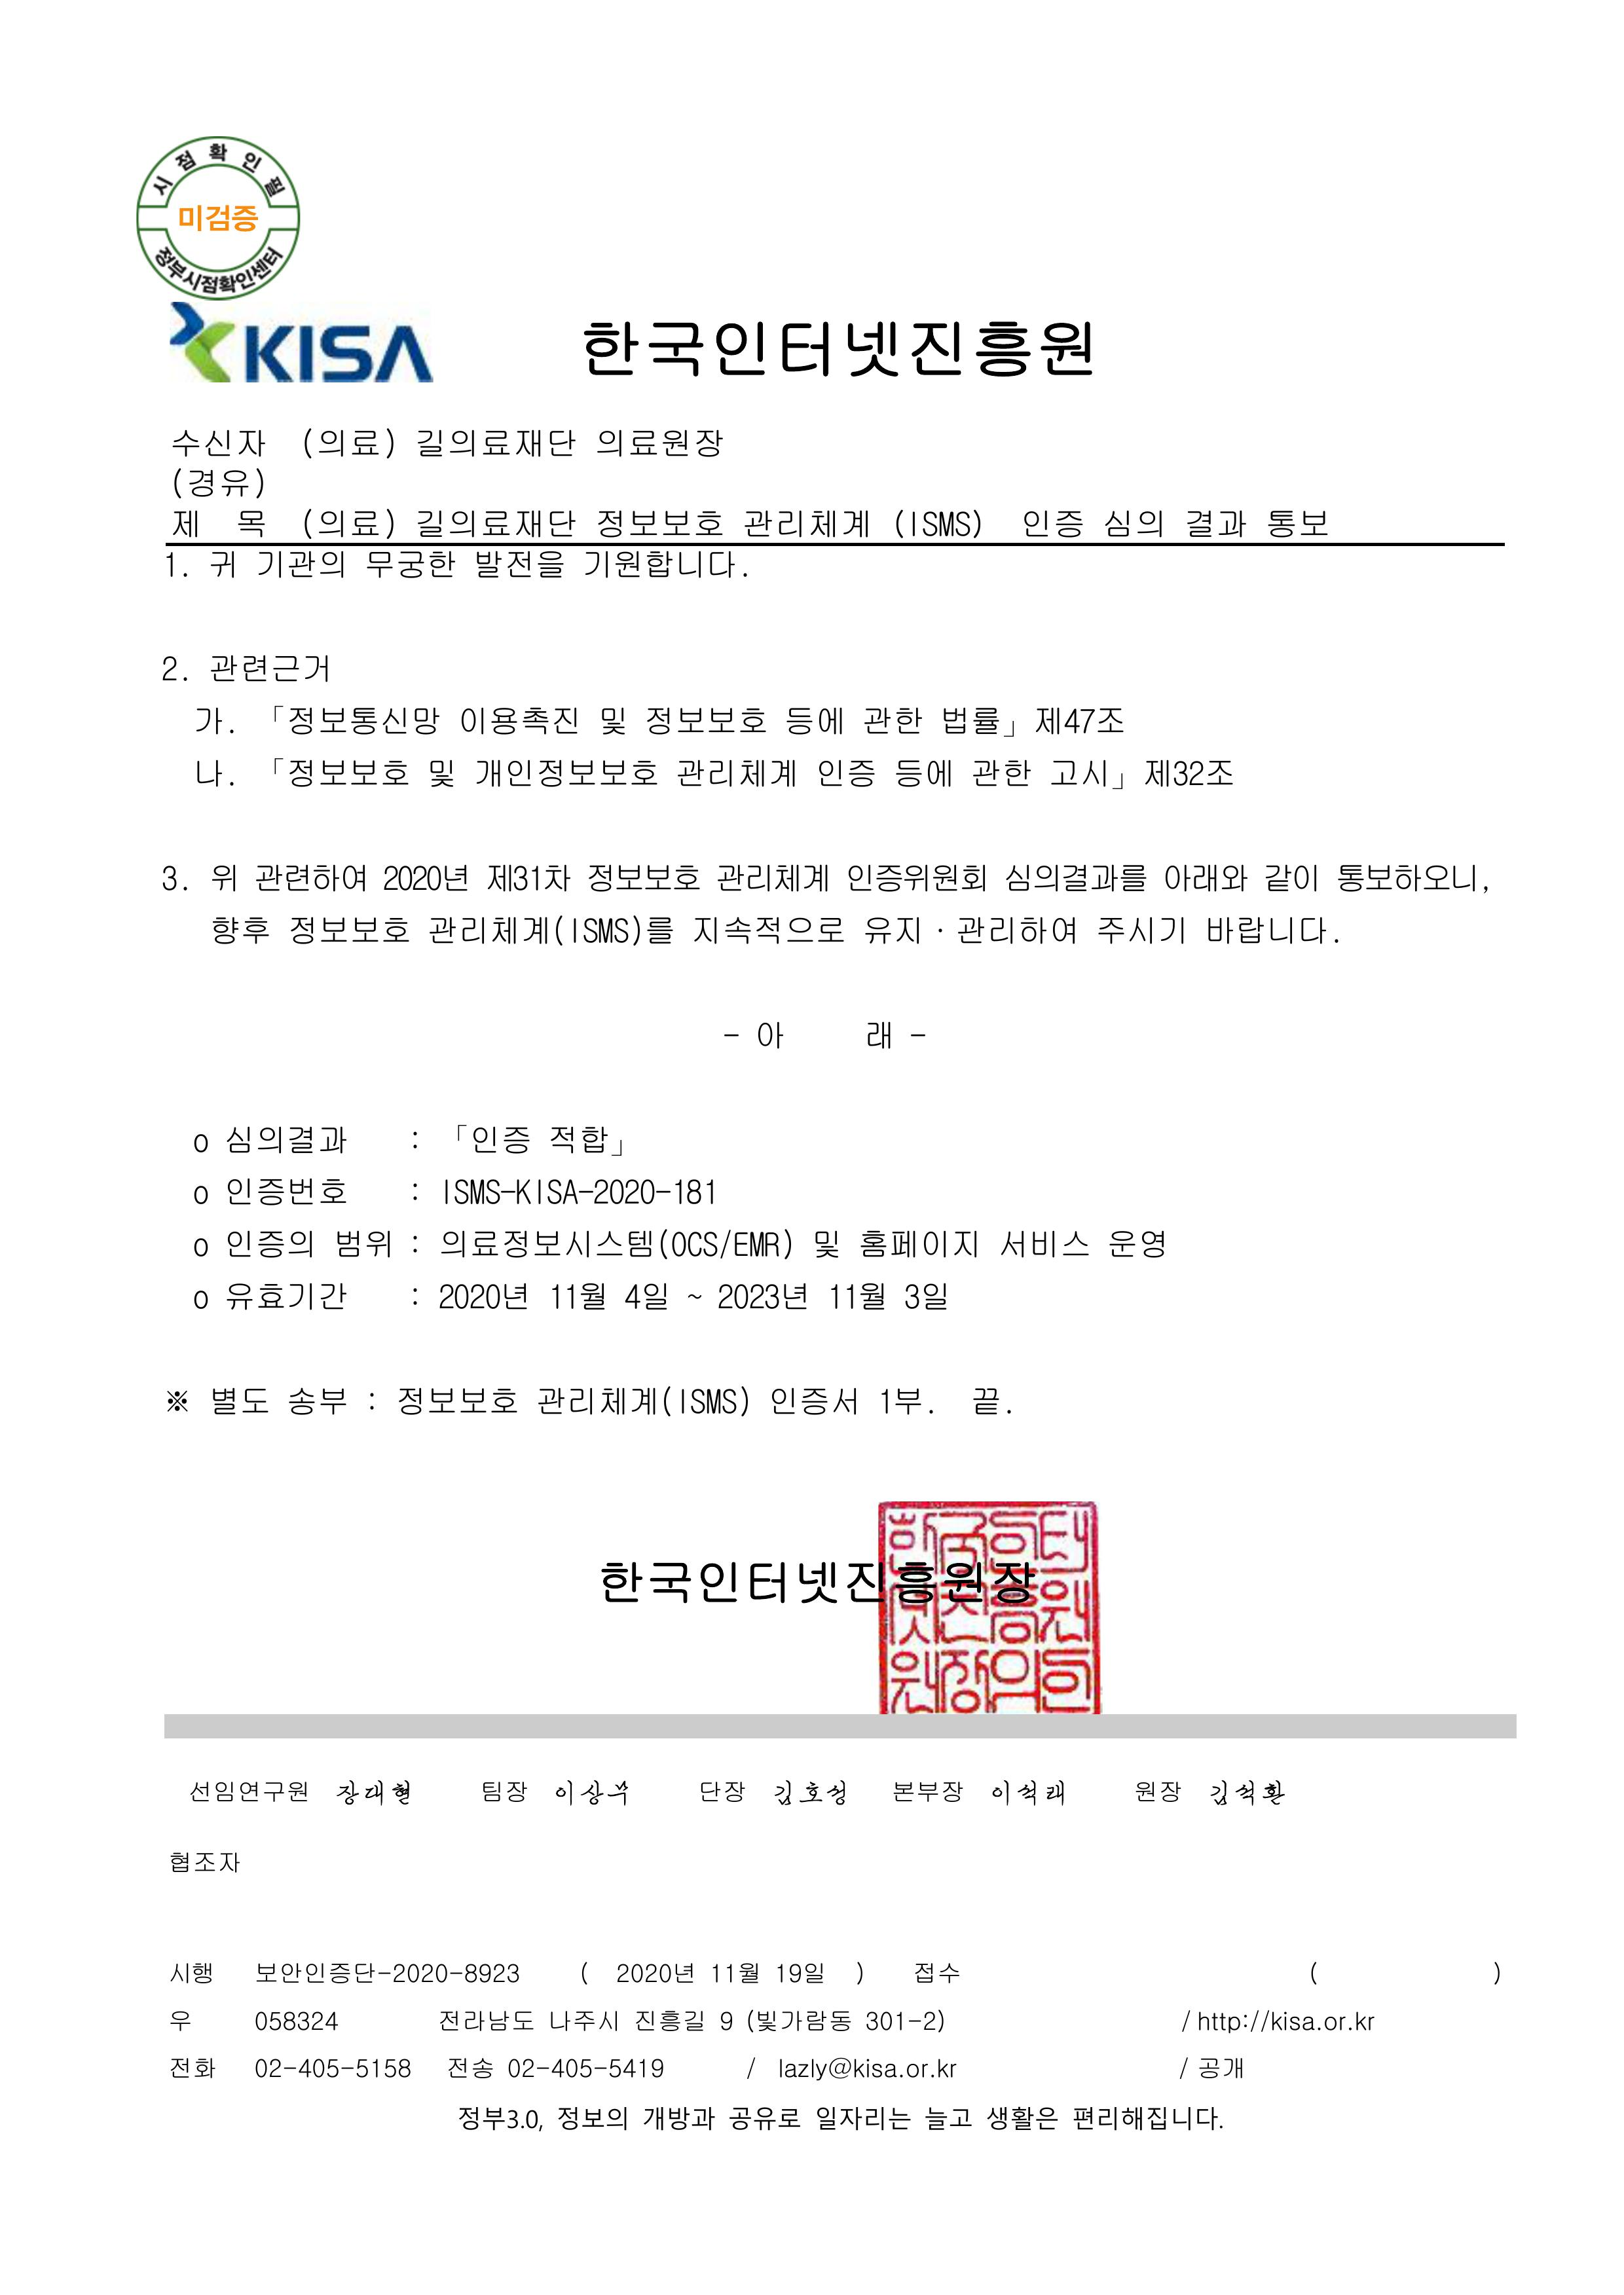t: (576, 315, 1093, 387), (599, 1555, 842, 1613), (239, 318, 431, 387), (438, 1172, 717, 1207), (438, 1227, 656, 1262), (473, 754, 656, 793), (258, 1961, 524, 1987), (576, 545, 749, 582), (993, 1550, 1100, 1604), (411, 427, 576, 462), (411, 506, 576, 541), (283, 703, 441, 738), (689, 910, 845, 945), (534, 1383, 678, 1420), (1334, 861, 1485, 896), (1179, 506, 1327, 541), (842, 861, 990, 896), (1000, 861, 1148, 896), (596, 424, 724, 462), (227, 1172, 348, 1213), (953, 912, 1079, 951), (1069, 2102, 1223, 2133), (427, 910, 566, 945), (1200, 910, 1338, 945), (285, 912, 408, 951), (591, 506, 724, 541), (225, 1279, 352, 1316), (283, 756, 408, 793), (742, 506, 872, 541), (394, 1383, 517, 1420), (207, 648, 329, 685), (455, 703, 580, 738), (642, 703, 766, 738), (227, 1123, 352, 1158), (856, 1227, 979, 1262), (673, 756, 800, 789), (251, 861, 369, 896), (714, 861, 831, 896), (584, 861, 700, 896), (186, 1775, 311, 1806), (508, 2058, 666, 2082), (297, 424, 397, 462), (473, 545, 566, 583), (766, 1383, 861, 1420), (742, 2005, 852, 2037), (169, 466, 265, 501), (251, 548, 348, 583), (452, 1118, 534, 1158), (889, 506, 982, 541), (366, 548, 459, 583), (1141, 754, 1234, 789), (1158, 861, 1251, 896), (221, 1227, 315, 1262), (997, 1227, 1090, 1262), (714, 1279, 810, 1313), (1033, 703, 1125, 738), (434, 2005, 534, 2037), (255, 2058, 383, 2082), (380, 861, 469, 896), (483, 861, 573, 896), (773, 2058, 900, 2082), (438, 1279, 531, 1313), (814, 2102, 910, 2133), (176, 200, 258, 237), (172, 427, 265, 459), (1093, 914, 1186, 945), (673, 1383, 752, 1420), (455, 2102, 545, 2133), (656, 1227, 735, 1262), (982, 2102, 1058, 2137), (613, 1958, 700, 1987), (1097, 506, 1169, 541), (283, 1383, 352, 1420), (251, 2005, 341, 2033), (552, 1775, 631, 1806), (638, 2102, 717, 2133), (863, 2007, 946, 2037), (334, 1775, 411, 1806), (1206, 1775, 1283, 1806), (1018, 506, 1086, 541), (545, 1123, 613, 1158), (814, 756, 879, 793), (207, 1383, 272, 1420), (889, 1775, 965, 1806), (631, 2005, 707, 2037), (555, 2102, 631, 2133), (724, 2102, 800, 2133), (889, 756, 953, 793), (780, 703, 845, 738), (939, 703, 1004, 738), (968, 754, 1033, 789), (861, 703, 924, 738), (1048, 754, 1111, 789), (990, 1778, 1069, 1806), (772, 1778, 849, 1806), (576, 914, 645, 945), (1104, 1227, 1165, 1262), (211, 914, 269, 951), (334, 1227, 394, 1262), (731, 1227, 796, 1258), (824, 1279, 886, 1313), (1262, 861, 1320, 896), (861, 914, 924, 945), (548, 2007, 624, 2033), (875, 1383, 928, 1420), (548, 1279, 606, 1313), (297, 506, 352, 541), (172, 1850, 244, 1875), (476, 1775, 531, 1806), (620, 1279, 671, 1313), (900, 1279, 951, 1313), (1193, 2012, 1262, 2037), (1130, 1775, 1183, 1806), (707, 1958, 761, 1987), (921, 2102, 972, 2133), (772, 1958, 824, 1987), (842, 1560, 879, 1603), (696, 1775, 745, 1806), (441, 2054, 494, 2082), (352, 506, 397, 538), (190, 703, 232, 735), (968, 1383, 1004, 1420), (861, 1017, 900, 1051), (914, 1961, 961, 1987), (752, 1017, 789, 1051), (1258, 2012, 1316, 2033), (903, 2061, 961, 2082), (169, 1961, 214, 1987), (204, 548, 239, 582), (193, 756, 228, 789), (1197, 2058, 1244, 2082), (172, 2058, 218, 2082), (427, 756, 455, 793), (207, 861, 239, 893), (642, 914, 673, 945), (599, 703, 627, 738), (810, 1227, 838, 1262), (383, 2058, 417, 2082), (237, 506, 265, 534), (1323, 2016, 1355, 2037), (162, 655, 183, 685), (162, 863, 183, 893), (1352, 2012, 1378, 2033), (172, 2012, 193, 2033), (717, 2012, 735, 2033), (569, 917, 580, 944)
